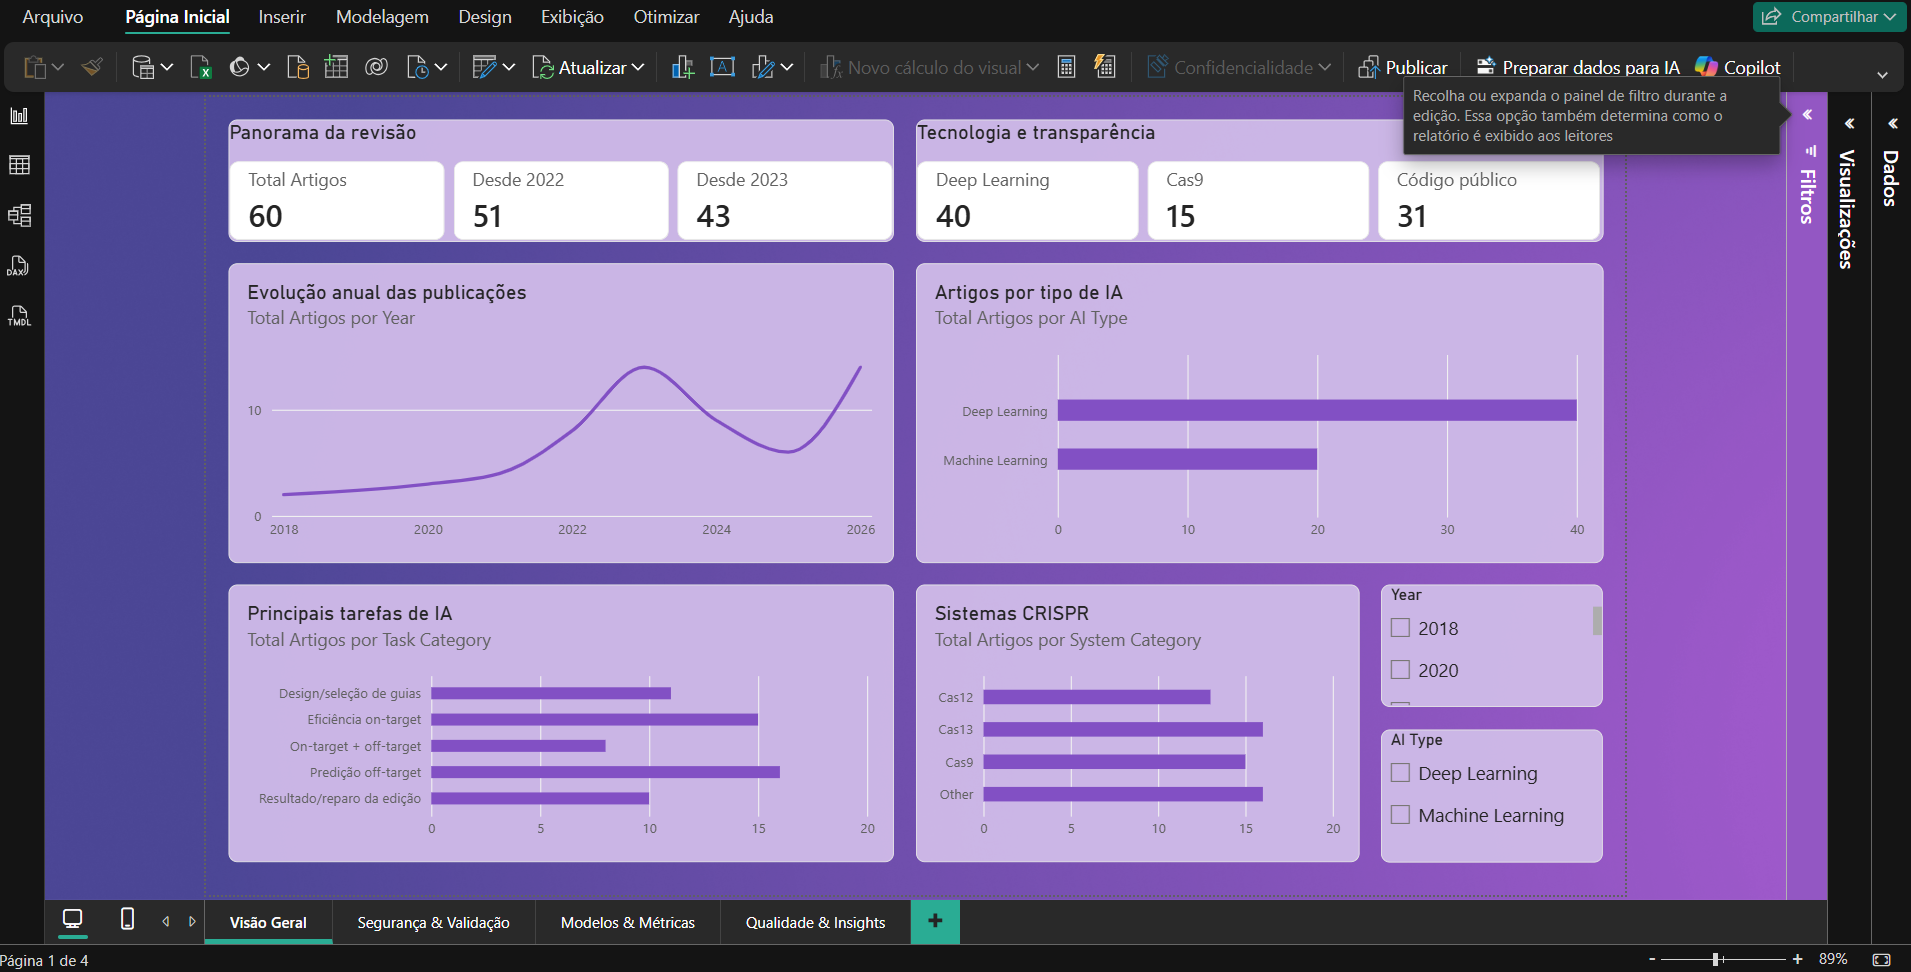

What the dashboard file says about the page in this screenshot:
{"tool":"powerbi","page":{"name":"Visão Geral","canvas":[1280,720],"ordinal":0},"visuals":[{"type":"cardVisual","title":"Panorama da revisão","fields":{"Data":["Articles.Total Artigos","Articles.Desde 2022","Articles.Desde 2023"]},"box":[20,20,600,110],"z":1000},{"type":"cardVisual","title":"Tecnologia e transparência","fields":{"Data":["Articles.Deep Learning","Articles.Cas9","Articles.Código público"]},"box":[640,20,620,110],"z":2000},{"type":"lineChart","title":"Evolução anual das publicações","fields":{"Category":["Articles.Year"],"Y":["Articles.Total Artigos"]},"box":[20,150,600,270],"z":3000},{"type":"clusteredBarChart","title":"Artigos por tipo de IA","fields":{"Category":["Articles.AI Type"],"Y":["Articles.Total Artigos"]},"box":[640,150,620,270],"z":4000},{"type":"clusteredBarChart","title":"Principais tarefas de IA","fields":{"Category":["Articles.Task Category"],"Y":["Articles.Total Artigos"]},"box":[20,440,600,250],"z":5000},{"type":"clusteredBarChart","title":"Sistemas CRISPR","fields":{"Category":["Articles.System Category"],"Y":["Articles.Total Artigos"]},"box":[640,440,400,250],"z":6000},{"type":"slicer","title":"Filtrar por ano","fields":{"Values":["Articles.Year"]},"box":[1060,440,200,110],"z":7000},{"type":"slicer","title":"Filtrar por IA","fields":{"Values":["Articles.AI Type"]},"box":[1060,570,200,120],"z":8000}]}

Visuals, with their boxes on the page's 1280x720 design canvas (x1, y1, x2, y2). These are canvas units, not pixel positions in the 1911x972 screenshot, which may show the page scaled, cropped or inside an application window:
"Panorama da revisão" cardVisual: select_region(20, 20, 620, 130)
"Tecnologia e transparência" cardVisual: select_region(640, 20, 1260, 130)
"Evolução anual das publicações" lineChart: select_region(20, 150, 620, 420)
"Artigos por tipo de IA" clusteredBarChart: select_region(640, 150, 1260, 420)
"Principais tarefas de IA" clusteredBarChart: select_region(20, 440, 620, 690)
"Sistemas CRISPR" clusteredBarChart: select_region(640, 440, 1040, 690)
"Filtrar por ano" slicer: select_region(1060, 440, 1260, 550)
"Filtrar por IA" slicer: select_region(1060, 570, 1260, 690)
